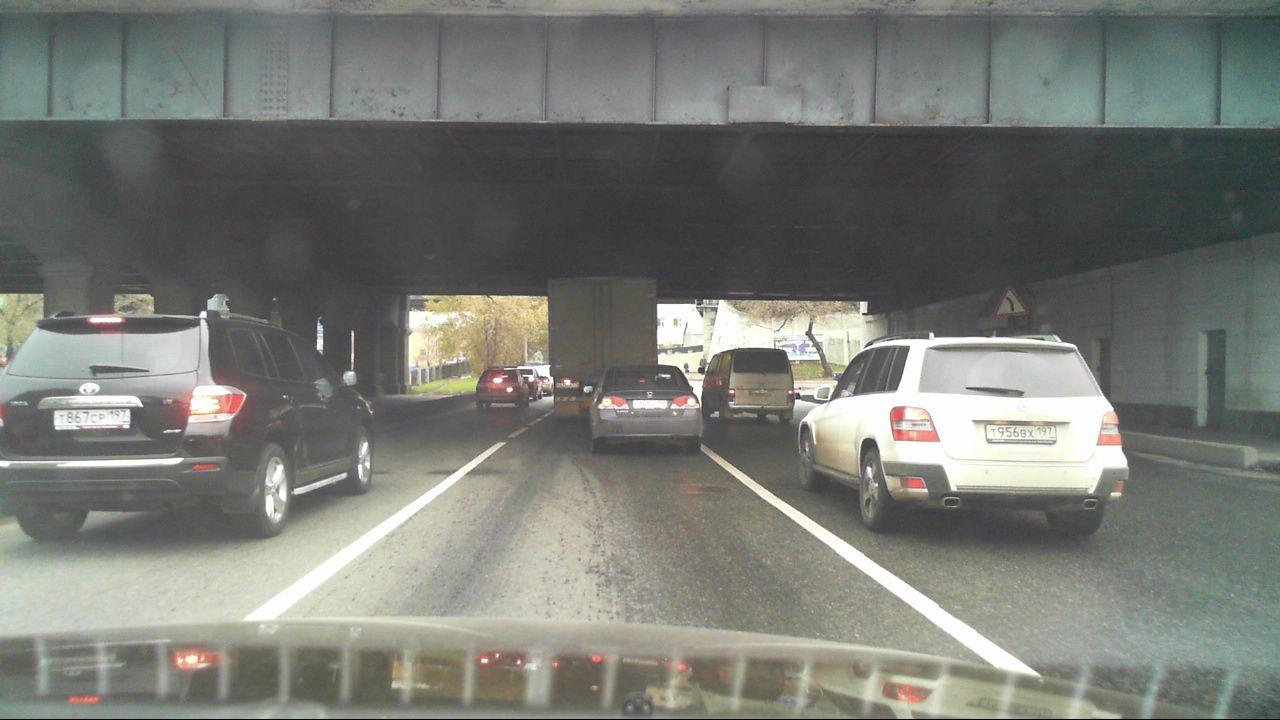1_11_2: (994, 287, 1026, 315)
